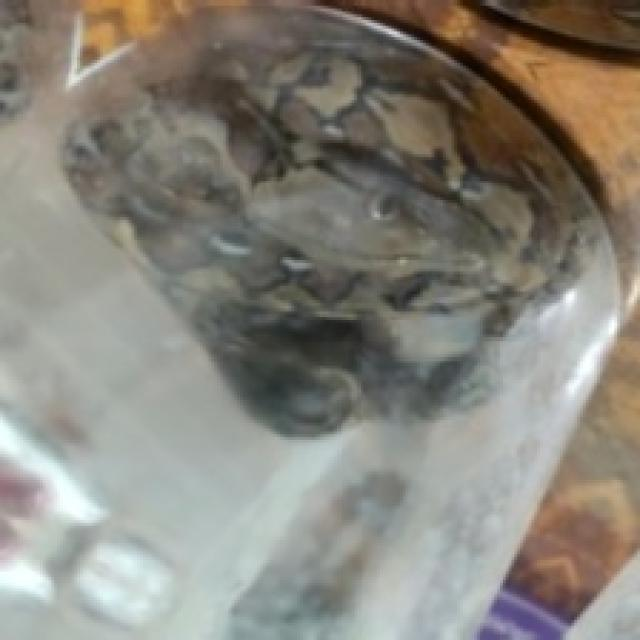reticulated python: (63, 9, 594, 431)
